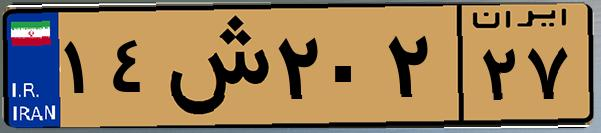0: (330, 28, 385, 110)
1: (57, 26, 110, 100)
2: (270, 28, 330, 110), (385, 28, 445, 110), (475, 38, 525, 113)
4: (110, 28, 158, 98)
7: (525, 38, 570, 115)
ش: (158, 12, 270, 120)
